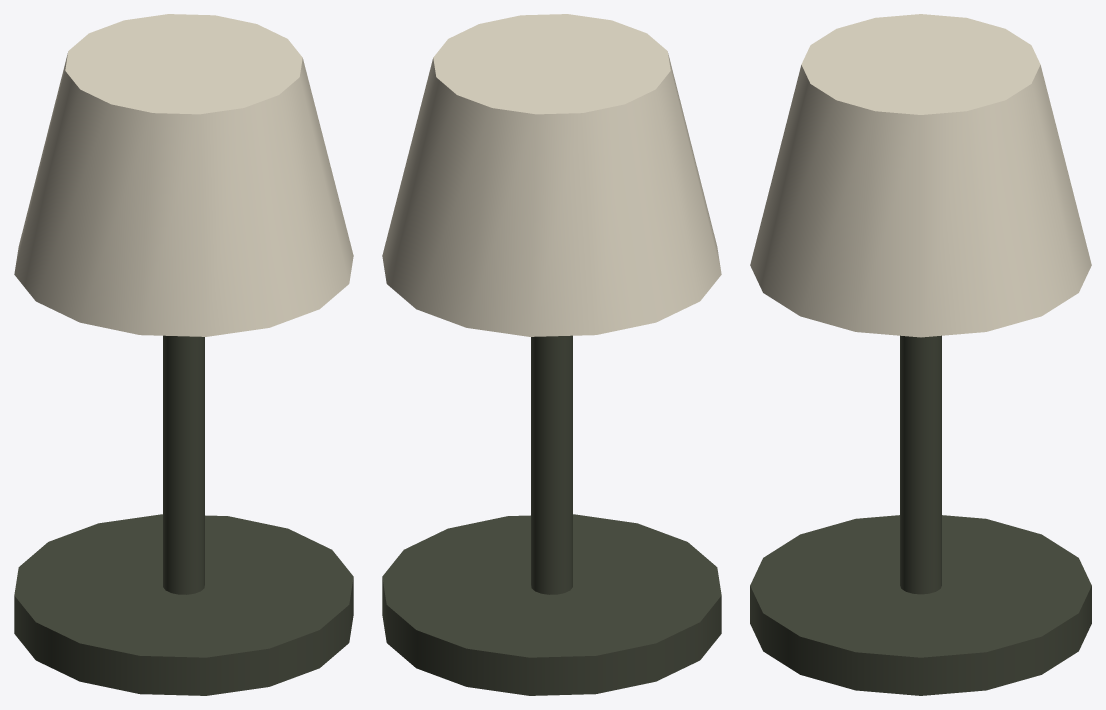
The model's file is lamp-front.glb.
3 renders of one model, left to right at view 1: azimuth 30°, elevation 25°; view 2: azimuth 150°, elevation 25°; view 3: azimuth 270°, elevation 25°, orthographic.
Parts seen in each view (by area): view 1: REF-L01-R01-lamp-front-part-3, REF-L01-R01-lamp-front-part-1, REF-L01-R01-lamp-front-part-2; view 2: REF-L01-R01-lamp-front-part-3, REF-L01-R01-lamp-front-part-1, REF-L01-R01-lamp-front-part-2; view 3: REF-L01-R01-lamp-front-part-3, REF-L01-R01-lamp-front-part-1, REF-L01-R01-lamp-front-part-2.
Part boxes in pixels (bbox=[...]): REF-L01-R01-lamp-front-part-3: bbox=[14, 14, 353, 336]; REF-L01-R01-lamp-front-part-1: bbox=[14, 514, 353, 695]; REF-L01-R01-lamp-front-part-2: bbox=[163, 335, 204, 594]; REF-L01-R01-lamp-front-part-3: bbox=[382, 14, 721, 336]; REF-L01-R01-lamp-front-part-1: bbox=[382, 514, 721, 695]; REF-L01-R01-lamp-front-part-2: bbox=[531, 335, 572, 594]; REF-L01-R01-lamp-front-part-3: bbox=[750, 14, 1091, 337]; REF-L01-R01-lamp-front-part-1: bbox=[750, 515, 1091, 695]; REF-L01-R01-lamp-front-part-2: bbox=[900, 335, 941, 594].
Bounding box in the file's own units: 0.081 × 0.1462 × 0.081.
